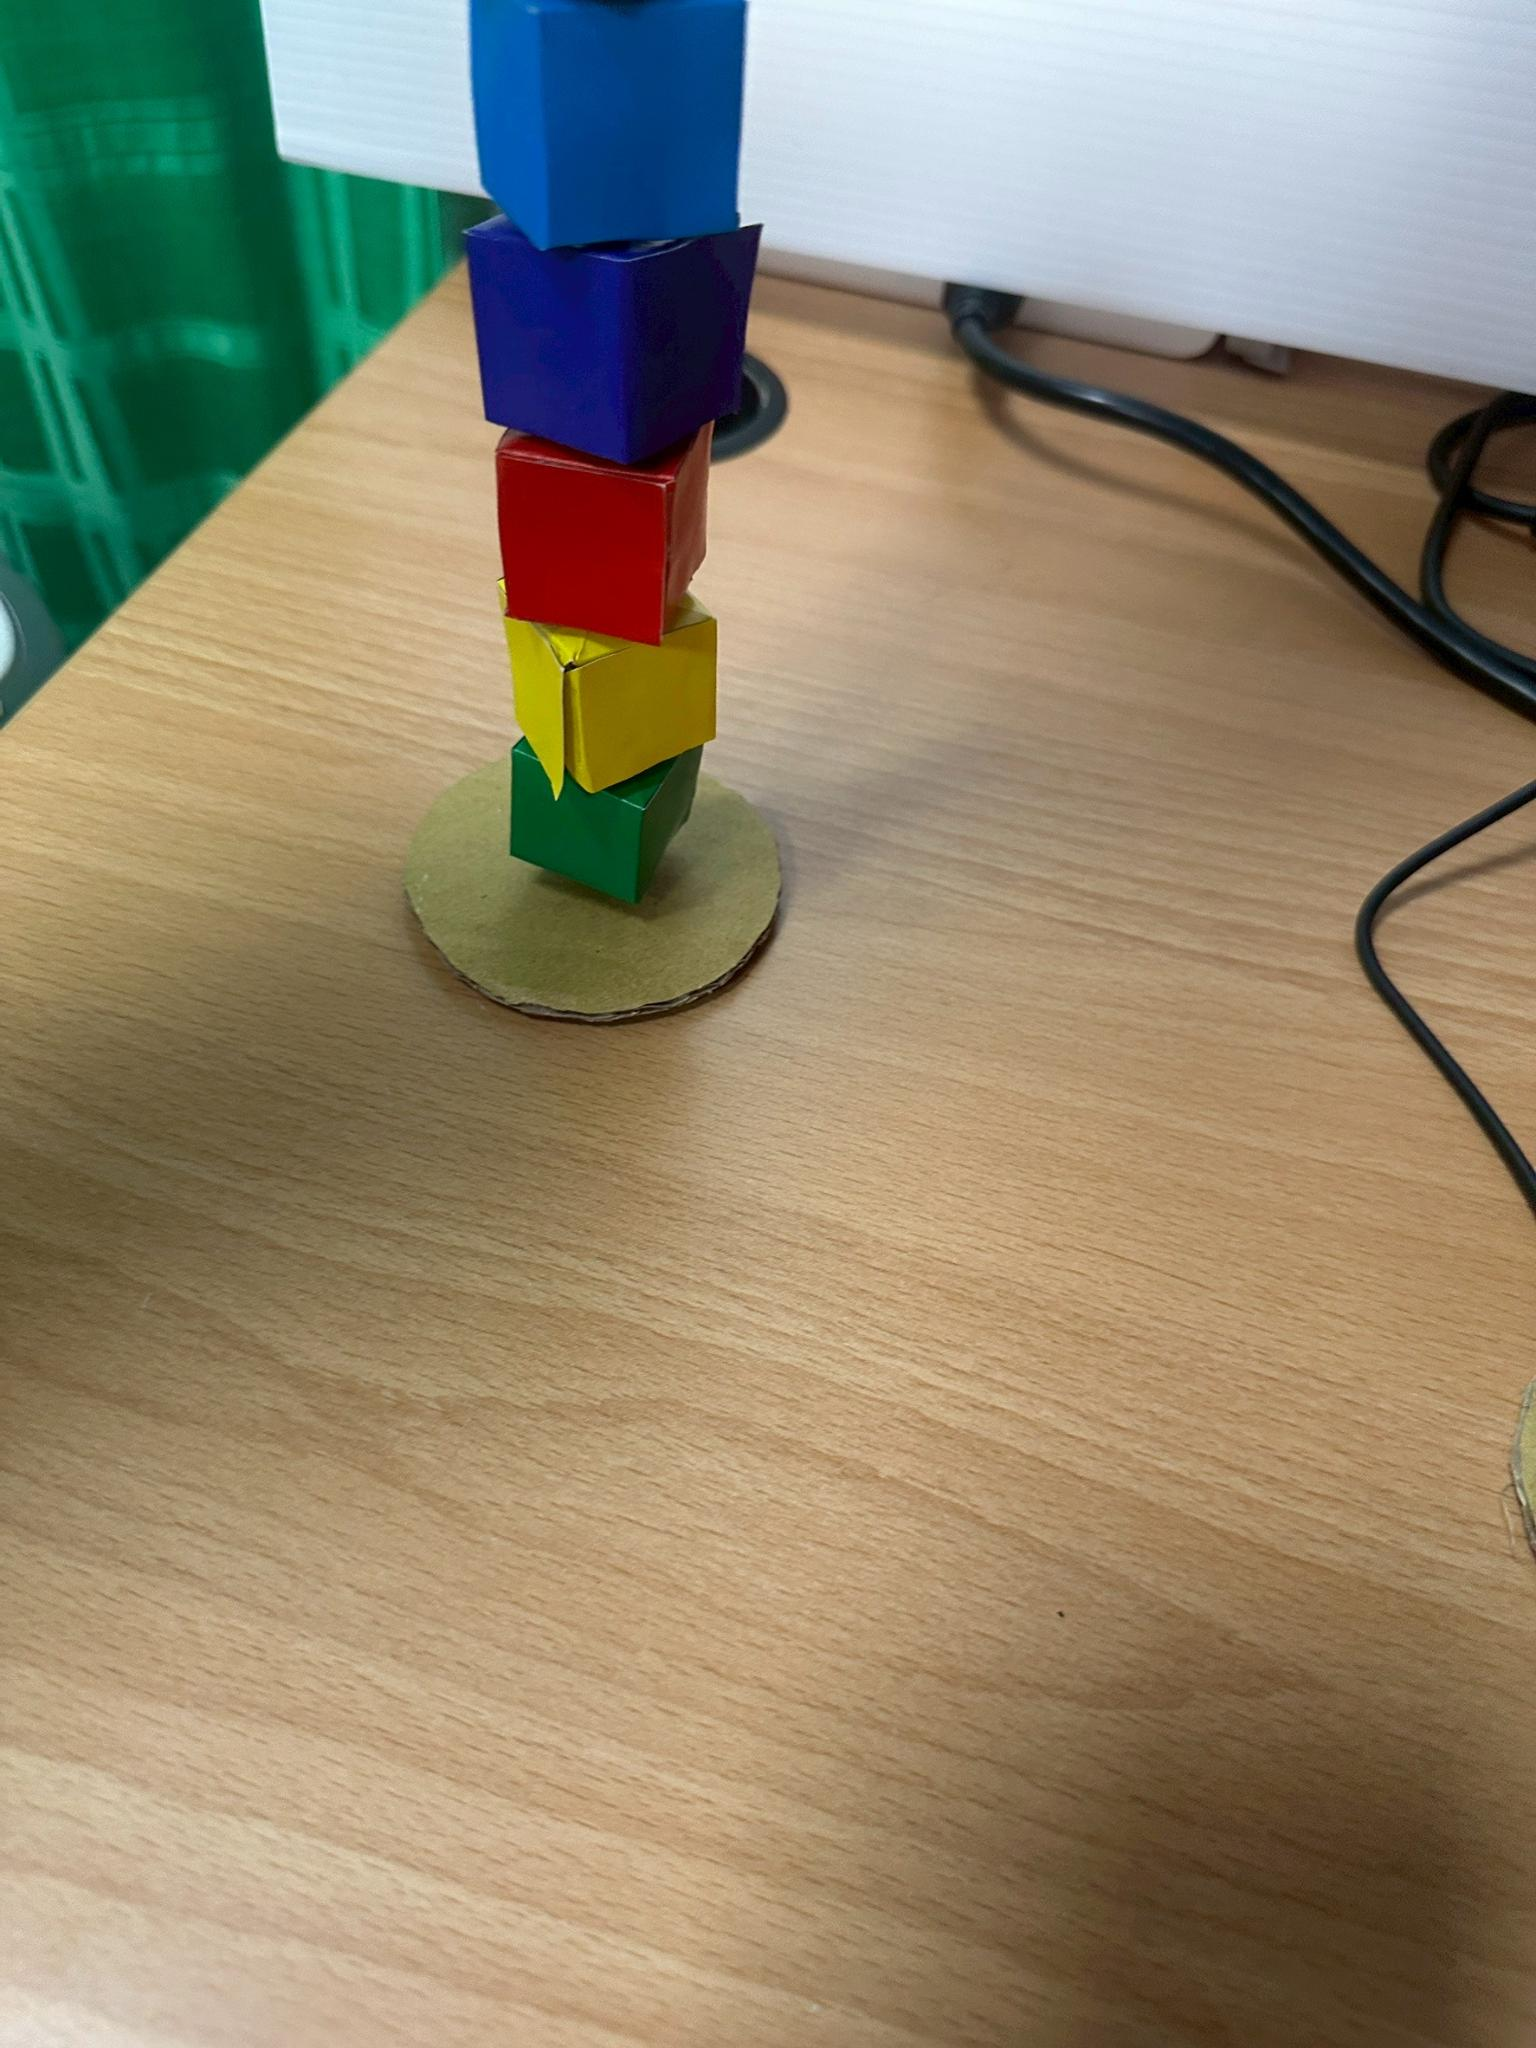base: (405, 758, 781, 1019)
